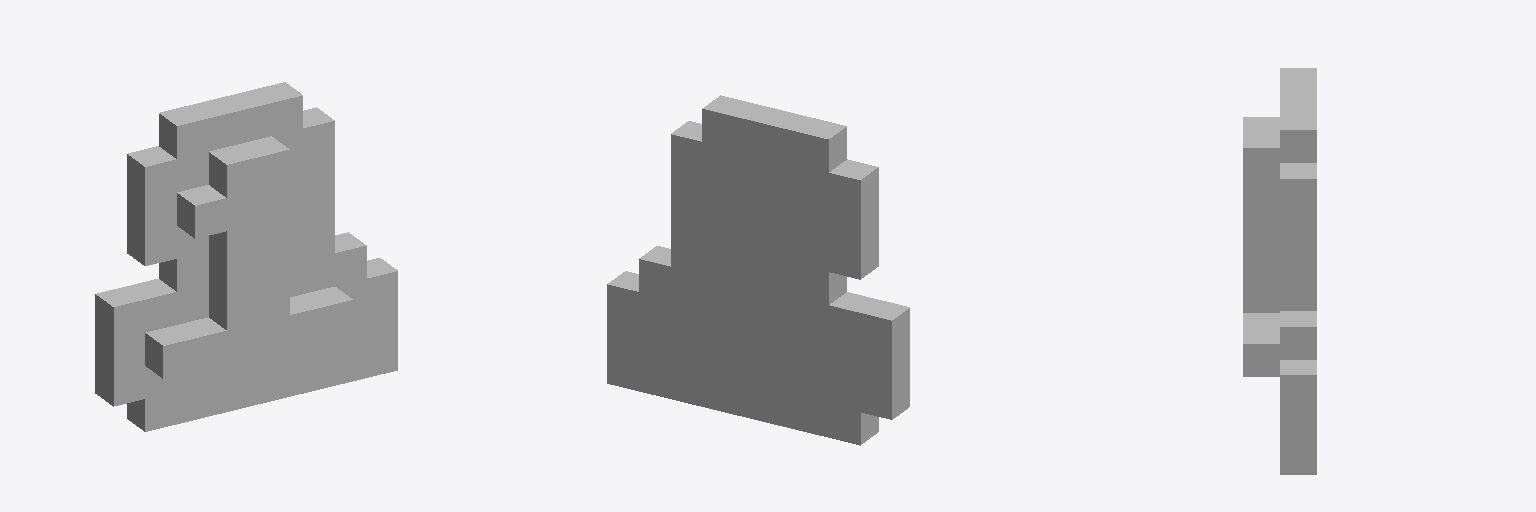
File: chisla chas-0.obj
The picture shows the model from 3 angles: view 1: azimuth 30°, elevation 25°; view 2: azimuth 150°, elevation 25°; view 3: azimuth 270°, elevation 25°; orthographic projection.
Visible parts, largest first — view 1: object 1; view 2: object 1; view 3: object 1.
Part boxes in pixels (x1,y1,x2,y2): object 1: (95,82,397,431); object 1: (607,95,909,445); object 1: (1243,68,1316,474).
Size of the model in its own units: 0.9 by 0.9 by 0.2.